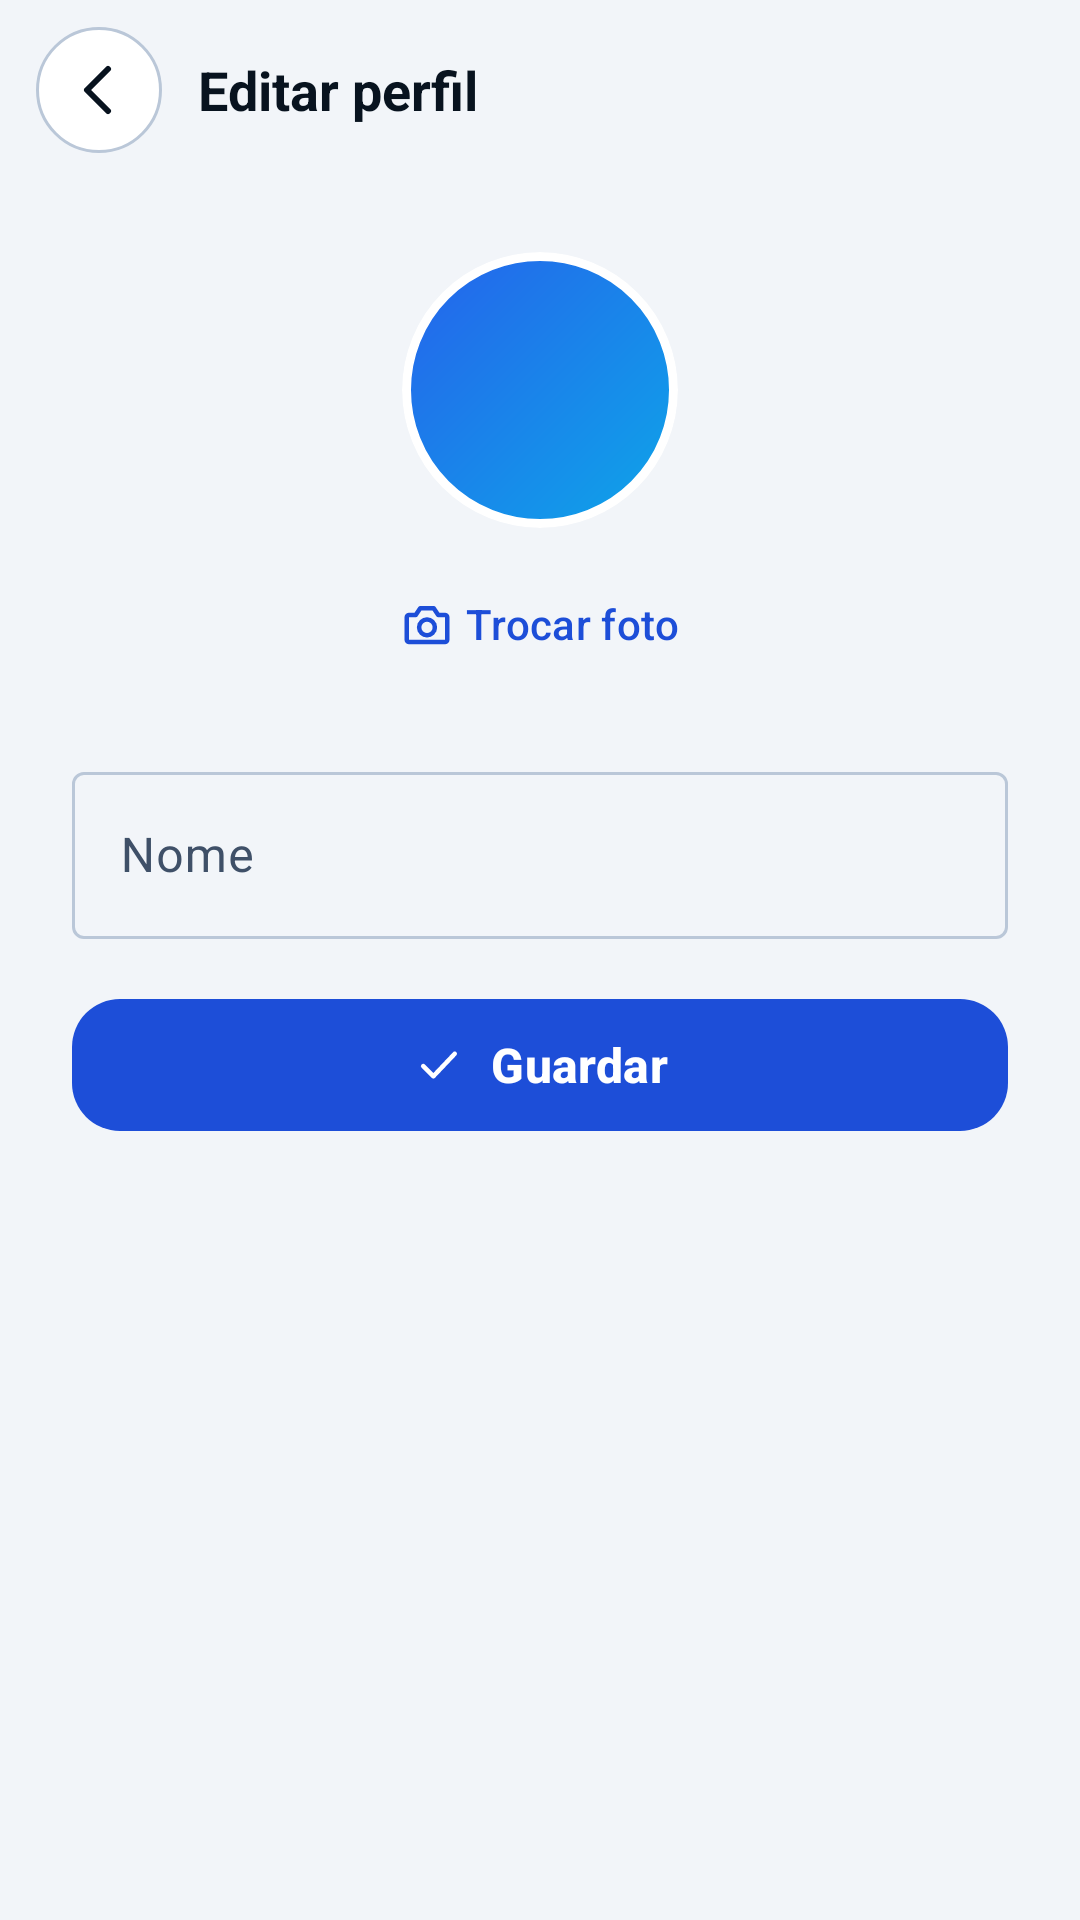

Where to tap for icons on this 1080px x 1920px app screen, as point (x, y):
Voltar: point (99, 90)
